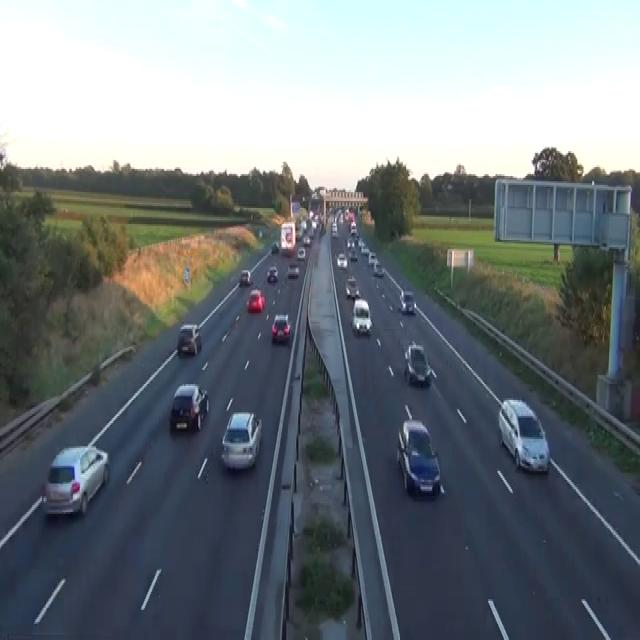Car: (41, 444, 110, 518), (498, 398, 550, 475), (396, 409, 441, 496), (220, 411, 262, 469), (169, 382, 209, 432), (403, 341, 432, 386), (176, 324, 201, 356), (351, 299, 372, 334), (271, 313, 290, 341), (0, 631, 70, 638), (246, 288, 265, 313), (399, 290, 415, 313), (345, 276, 360, 298), (239, 268, 252, 286), (266, 265, 278, 283), (336, 250, 347, 268), (287, 263, 299, 277), (373, 262, 384, 276), (295, 224, 303, 240), (367, 251, 376, 265), (346, 236, 355, 249), (297, 246, 305, 260), (331, 222, 338, 236), (349, 249, 357, 261), (358, 236, 365, 249), (350, 220, 356, 234), (271, 242, 279, 252), (361, 244, 369, 254), (303, 235, 310, 245), (320, 222, 326, 233), (301, 219, 306, 231), (346, 238, 351, 249), (259, 230, 262, 237)
Truck: (280, 220, 296, 254)
